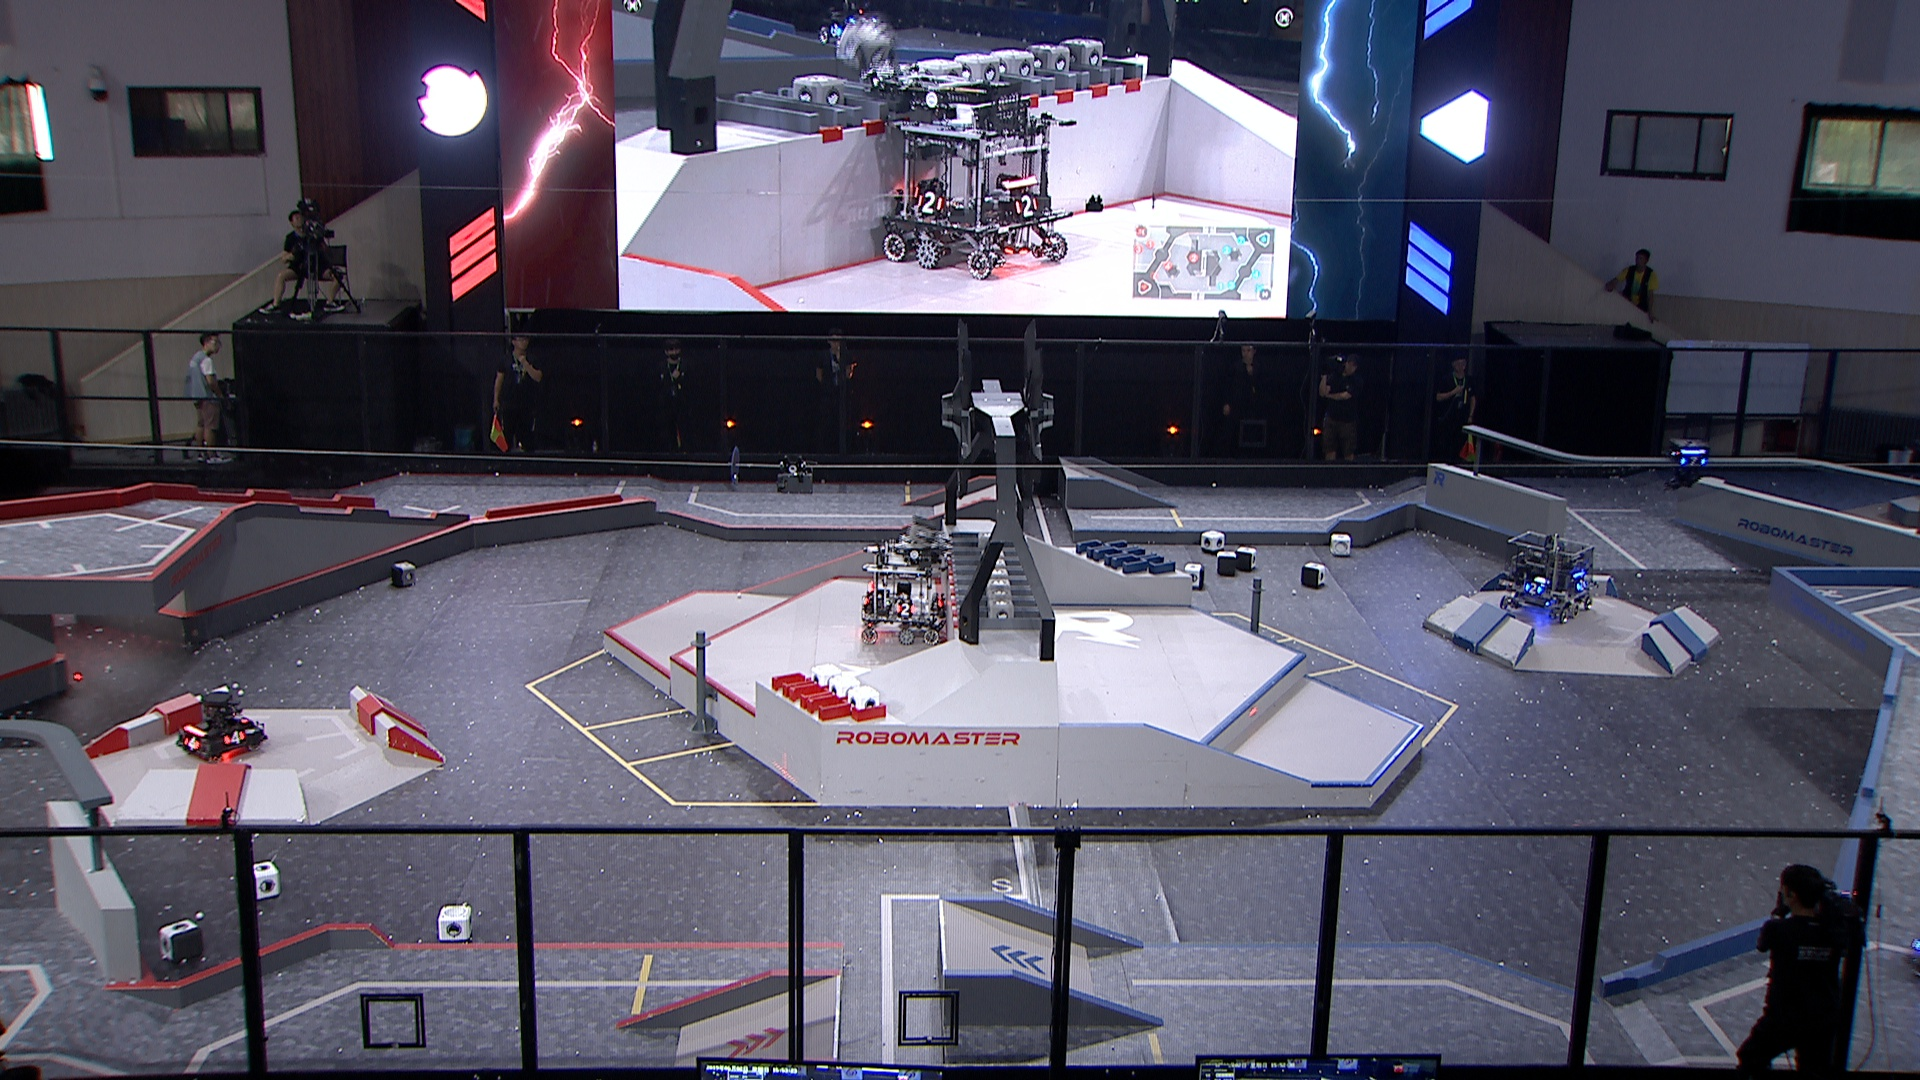armor: (222, 727, 247, 746), (181, 732, 204, 752), (1522, 579, 1545, 597), (1677, 455, 1706, 469), (229, 709, 252, 727), (895, 603, 918, 618), (1572, 575, 1589, 593)
car: (856, 529, 956, 651), (1495, 529, 1600, 622), (173, 684, 272, 764)
ignore: (877, 73, 1079, 284)
watcher: (1664, 431, 1713, 491)
